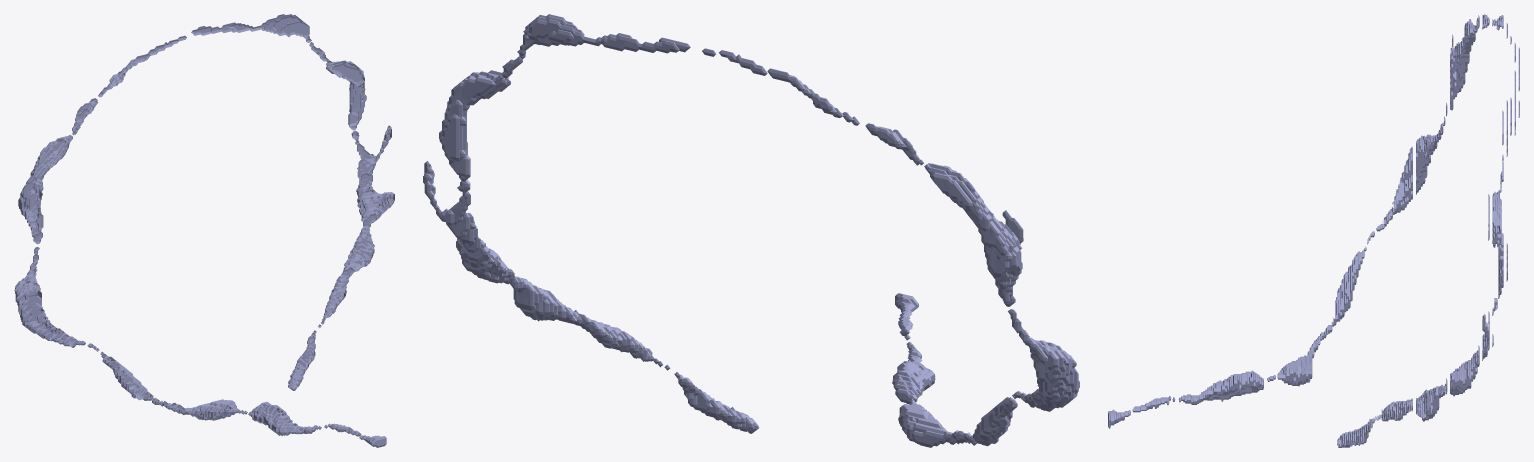
The model's file is SVV_PVT.gltf.
3 renders of one model, left to right at view 1: azimuth 30°, elevation 25°; view 2: azimuth 150°, elevation 25°; view 3: azimuth 270°, elevation 25°, orthographic. The views are drawn at different scales.
Parts seen in each view (by area): view 1: PVT; view 2: PVT; view 3: PVT.
Part boxes in pixels (x1,y1,x2,y2): PVT: (14,14,394,447); PVT: (423,14,1079,447); PVT: (1108,14,1519,447).
Size of the model in its own units: 108601 by 81437 by 78519.
